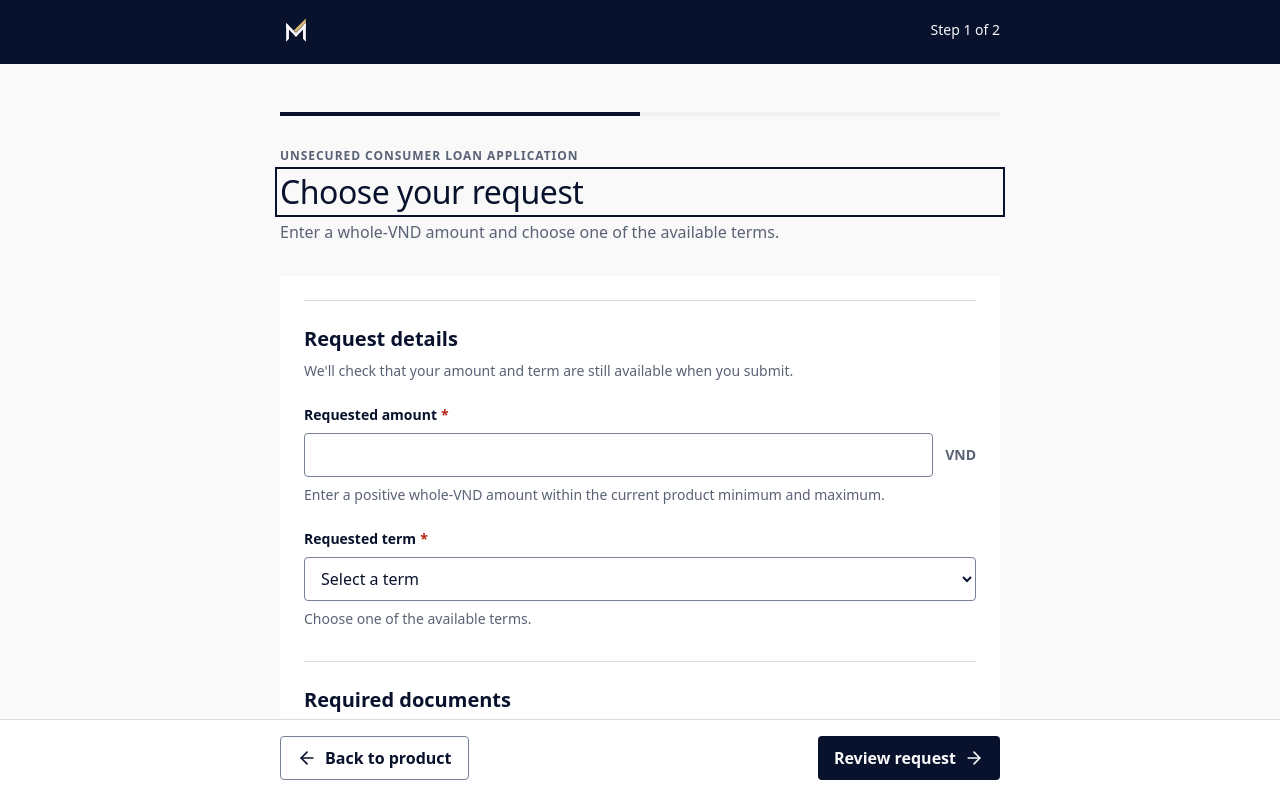
Test: FE-CP7 UCL origination › warns before leaving unsecured-consumer-loan input and returns keyboard focus on dismissal
Type "5000000" into the field labelled "Requested amount*" at (619, 455), box [304,433,933,477]
(page scrolled)
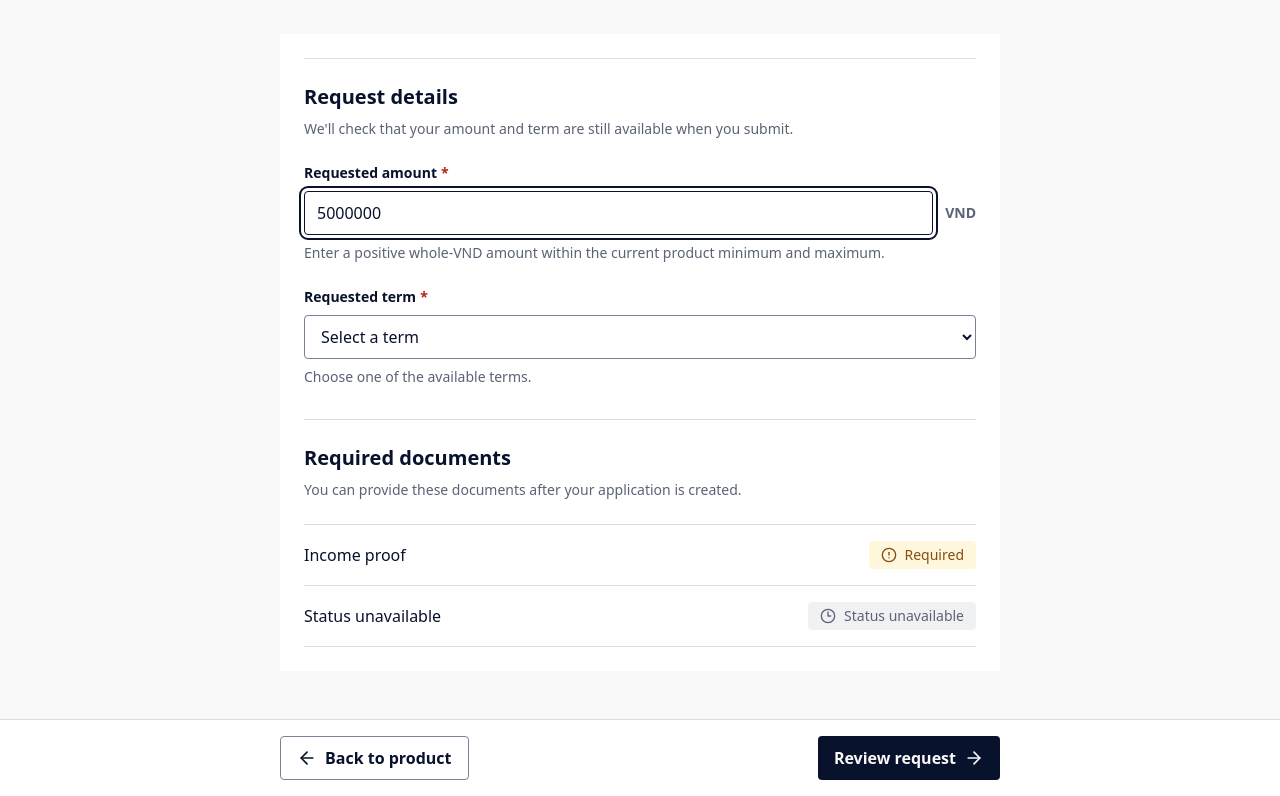
Click the link "Back to product" at (374, 758), box [280,736,468,780]
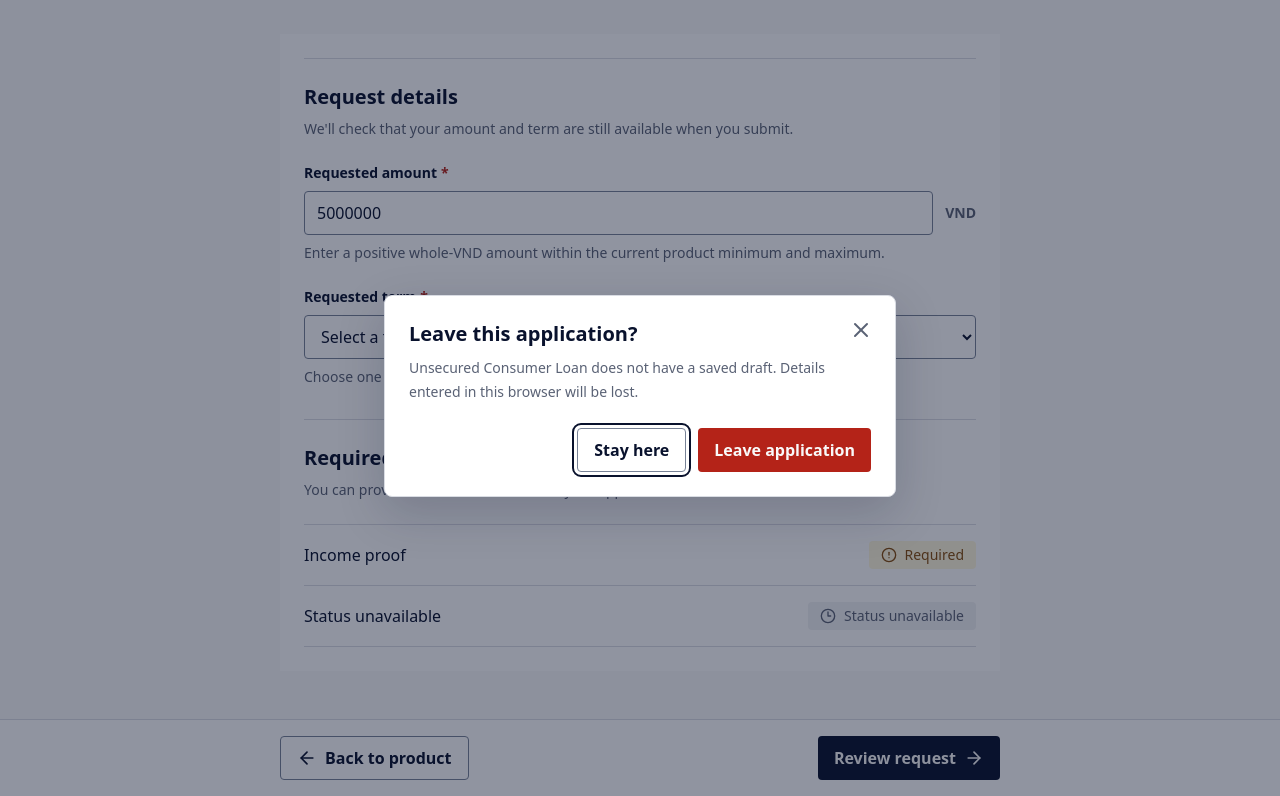
Now the dialog "Leave this application?" is shown, box [384,295,896,497]
Press Escape
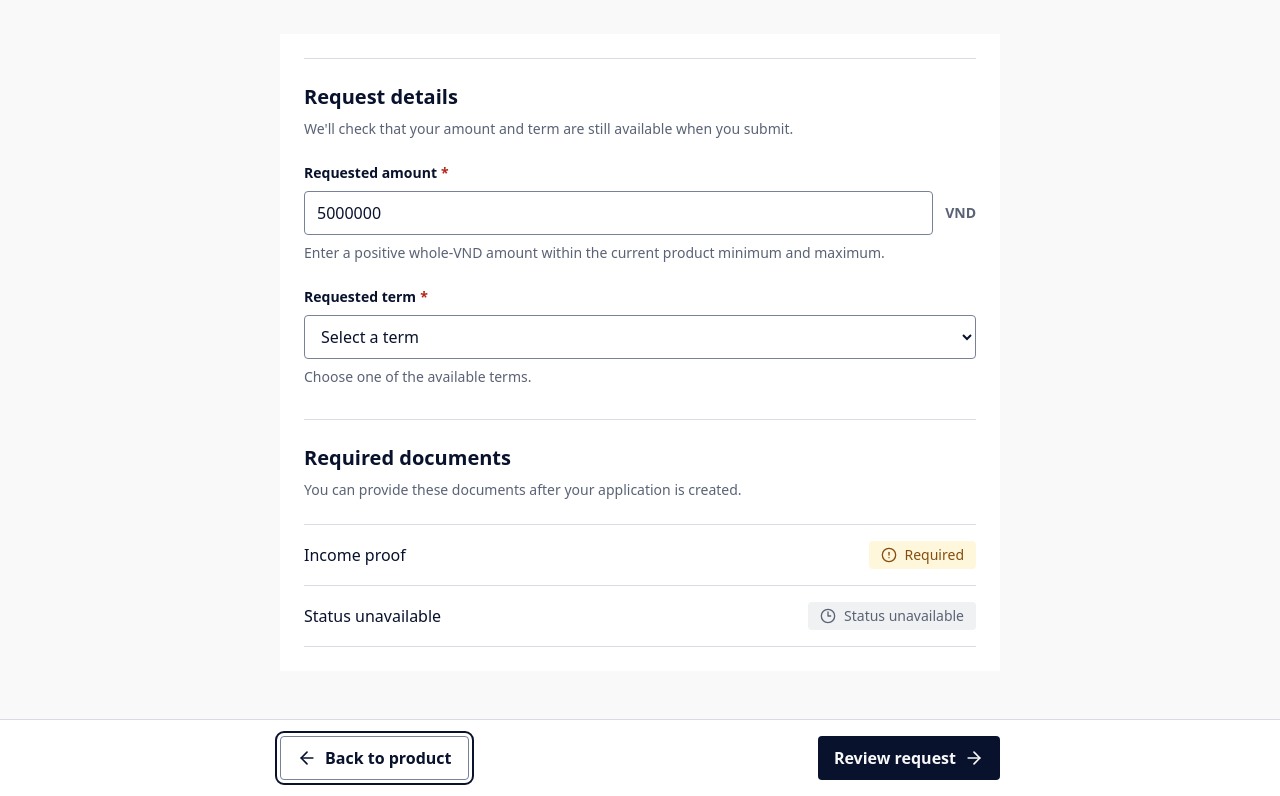
Now the dialog is gone
